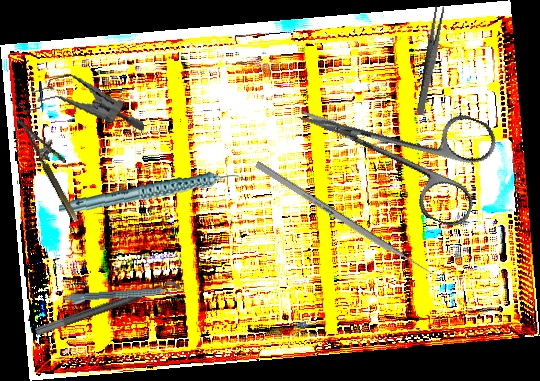Dressing Forceps: (415, 4, 446, 117)
Fixation Ring: (34, 278, 185, 348)
Handpiece: (58, 163, 248, 223), (63, 286, 178, 307)
Iris Scissors: (281, 59, 503, 232)
Needle Holder: (16, 108, 94, 224)
Pusher: (254, 160, 440, 282)
Speculum: (14, 59, 145, 155)
